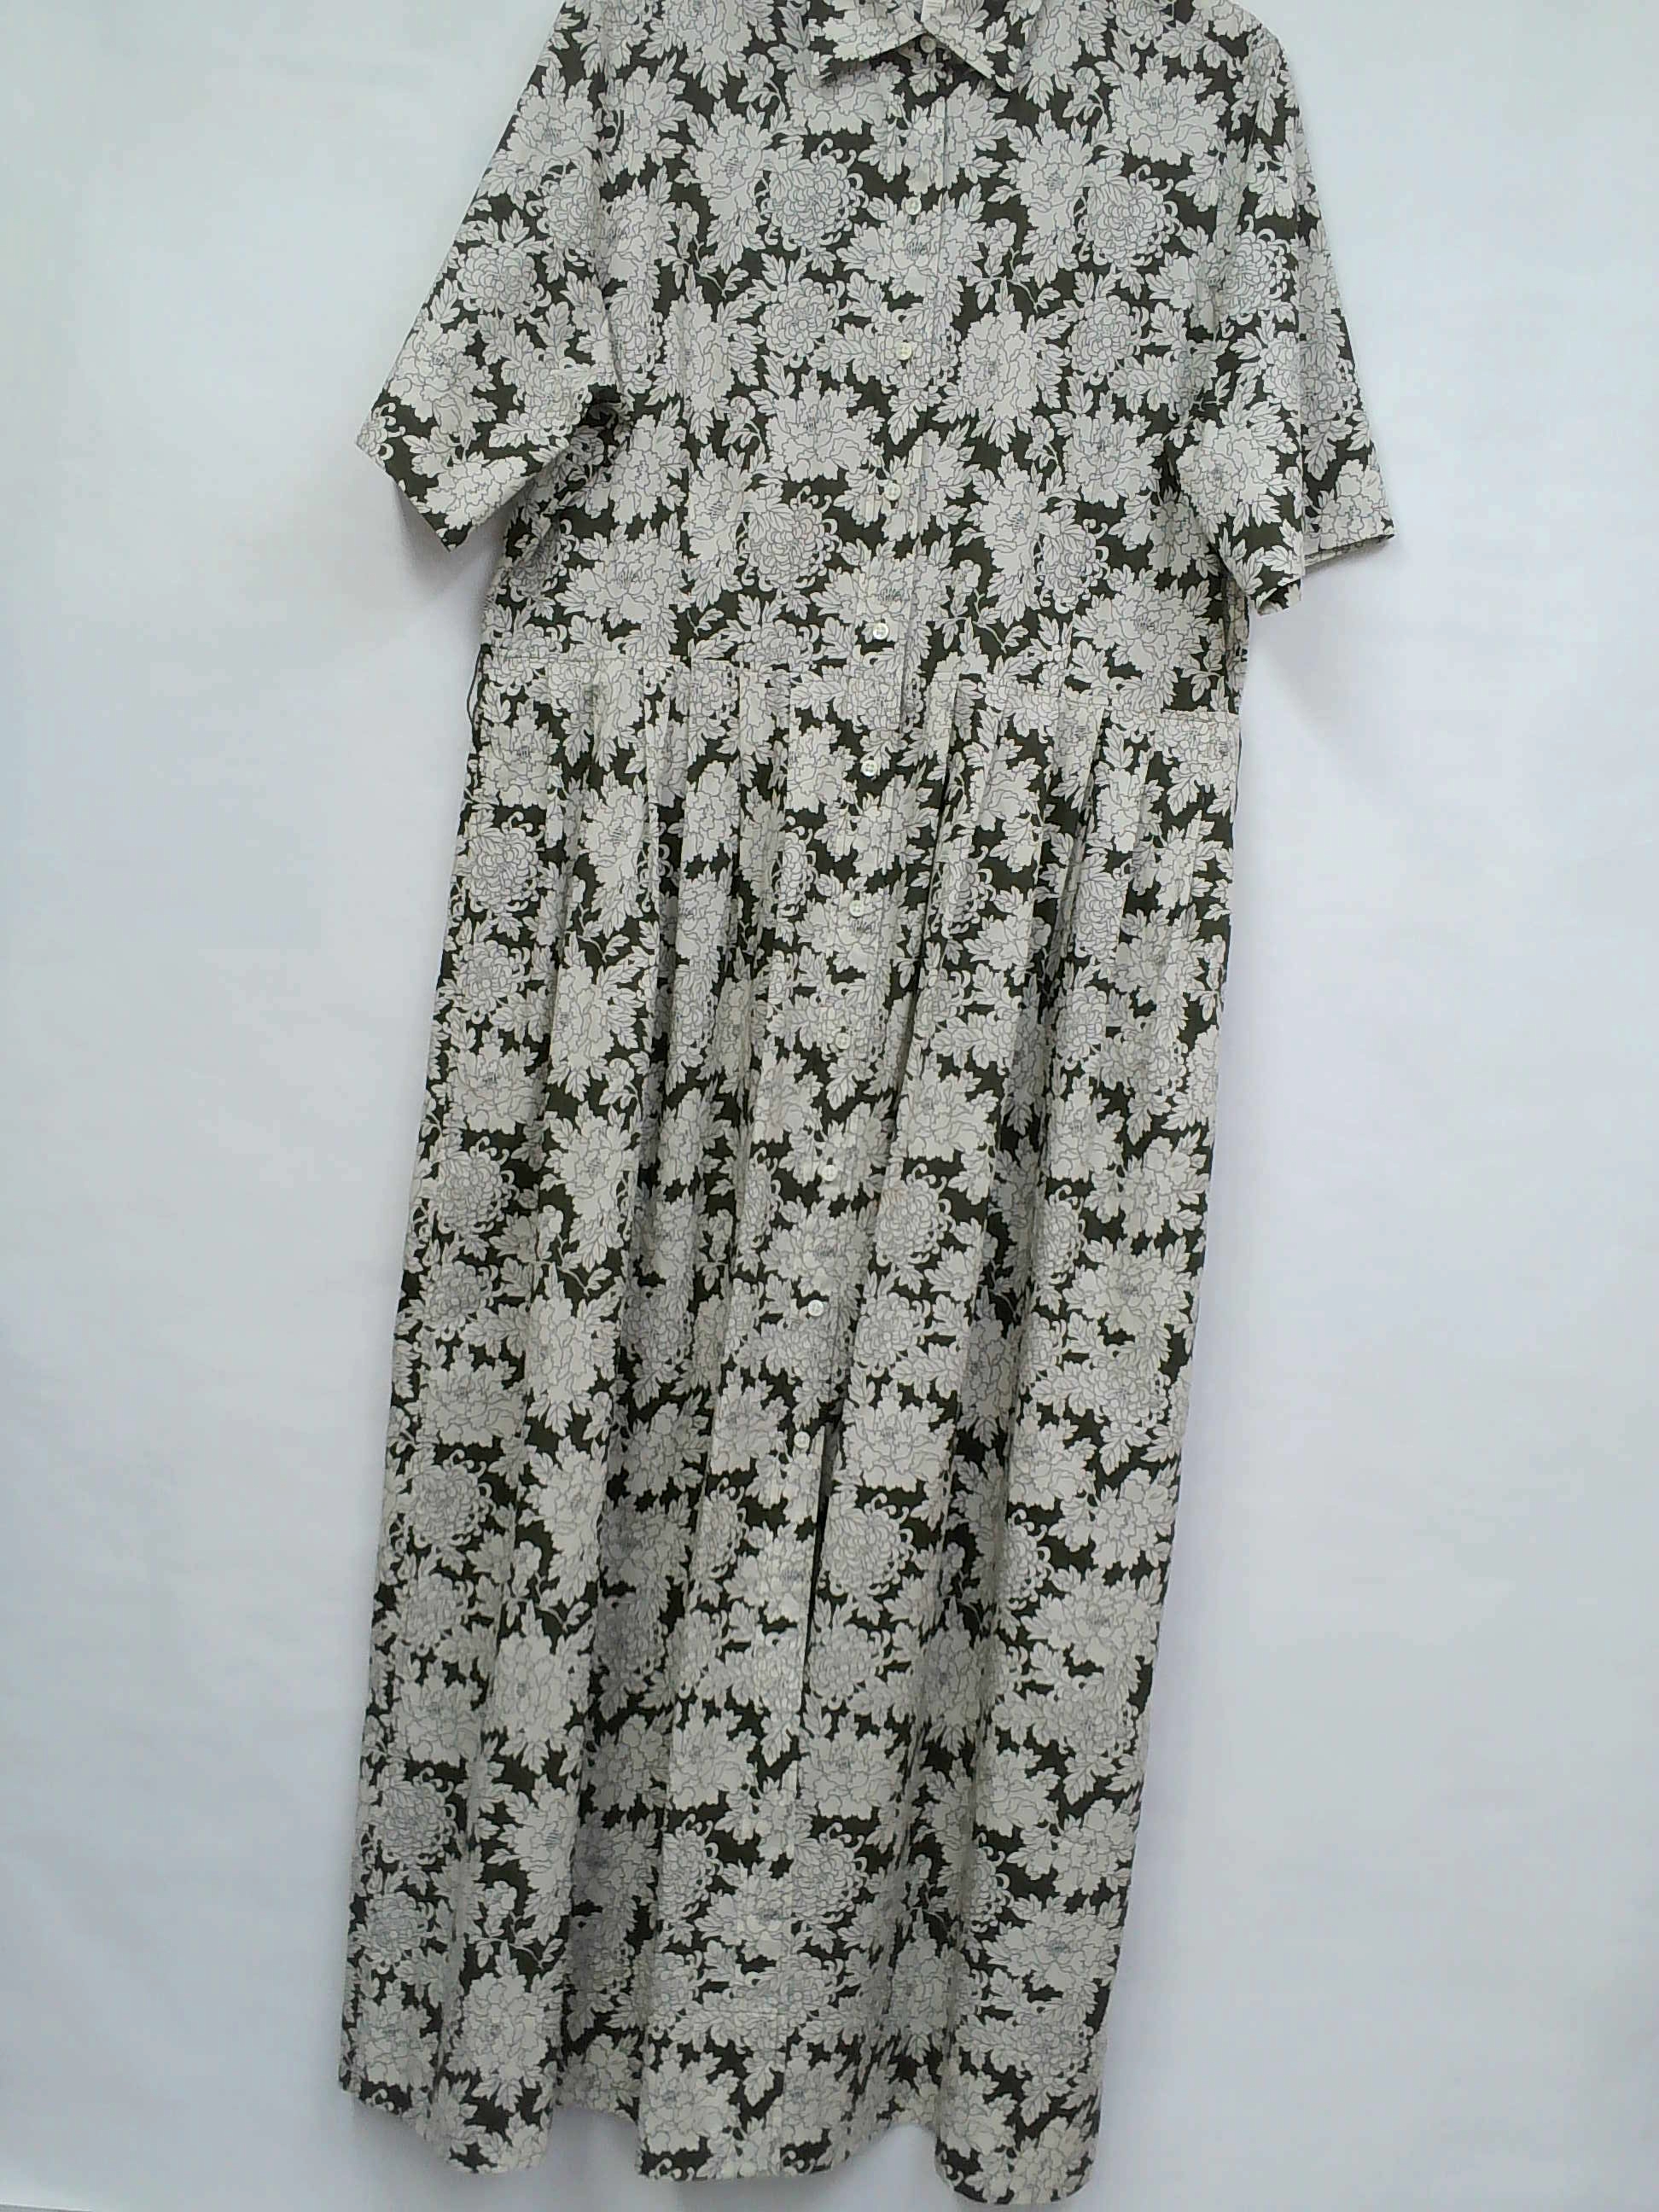seam: (673, 1991, 829, 2191)
